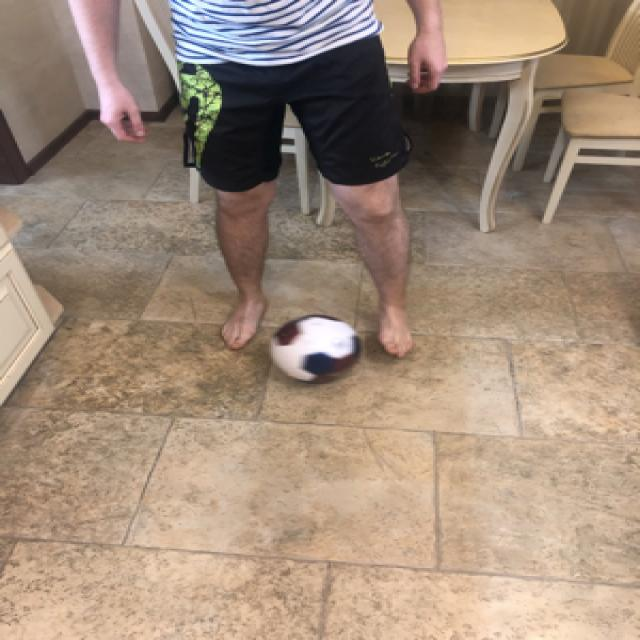soccer_ball: (266, 310, 362, 382)
